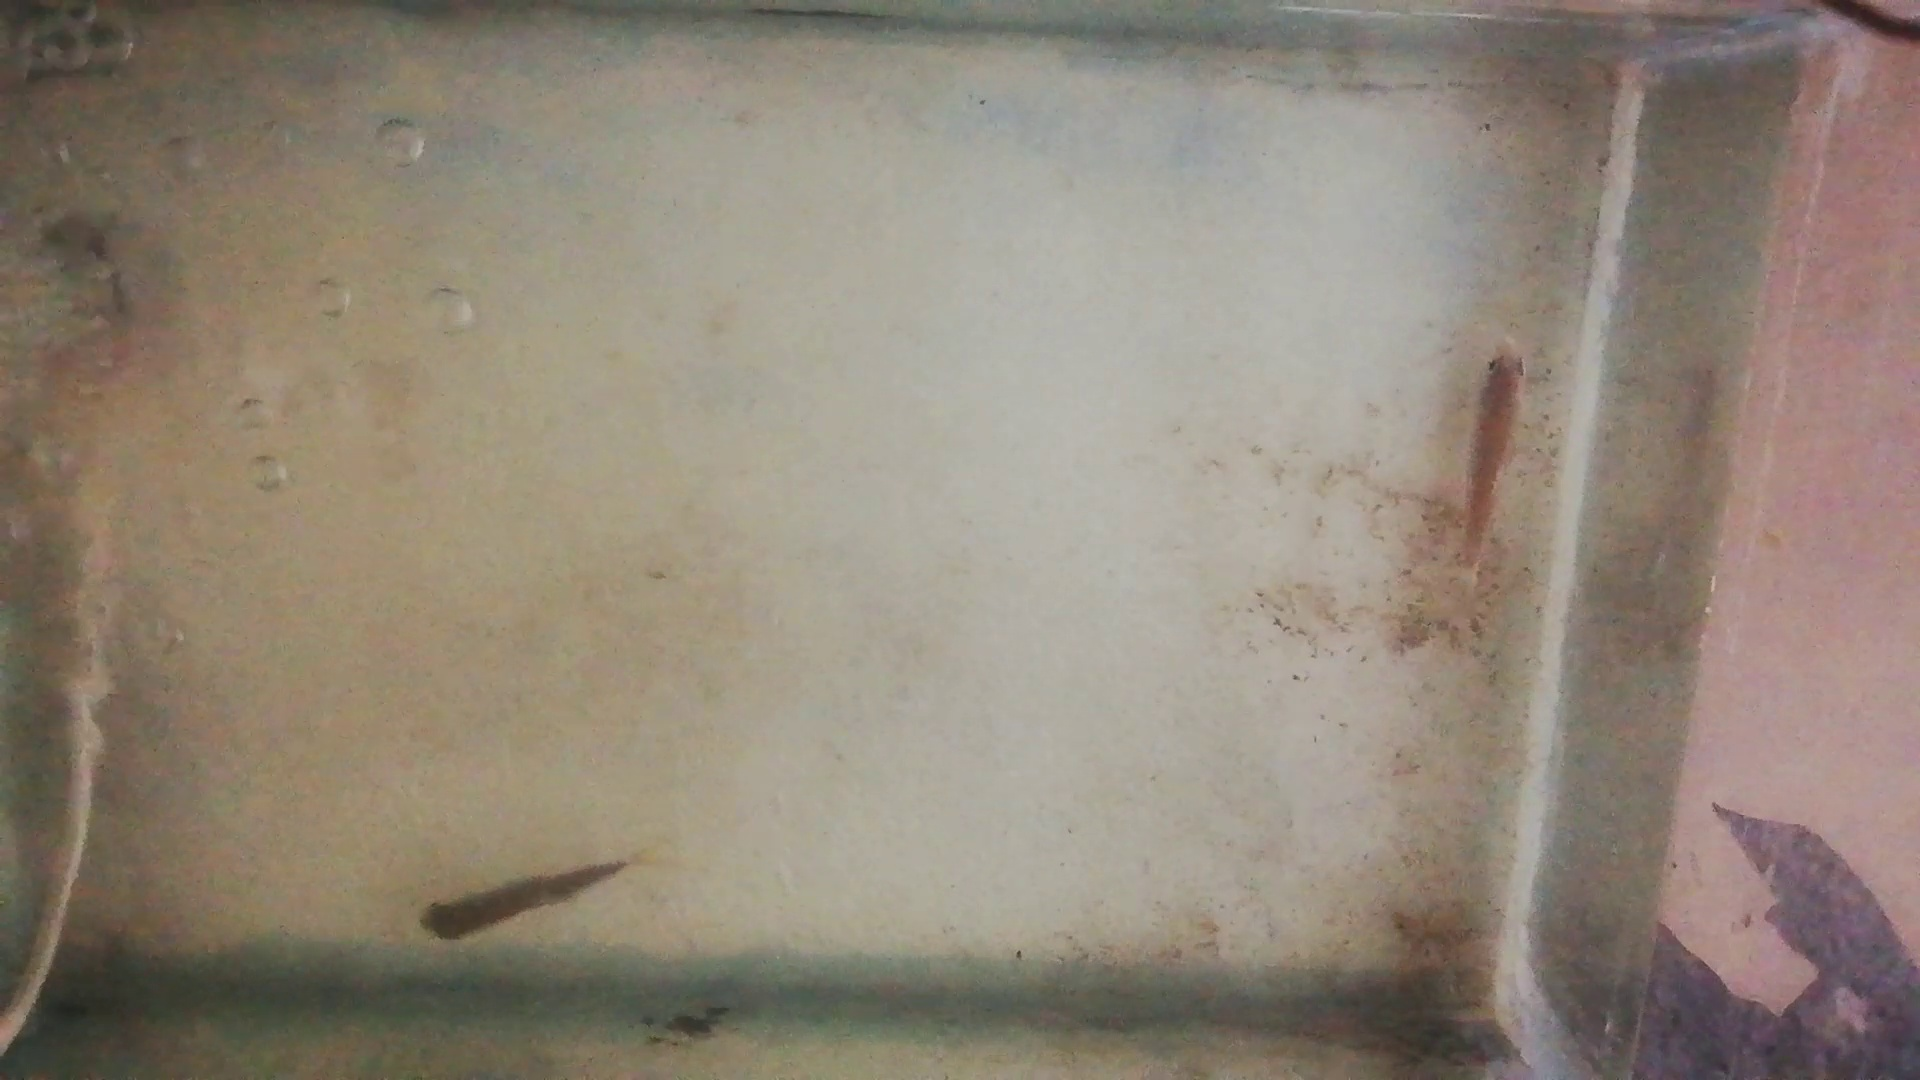fish: (419, 858, 625, 940), (1457, 335, 1527, 571)
